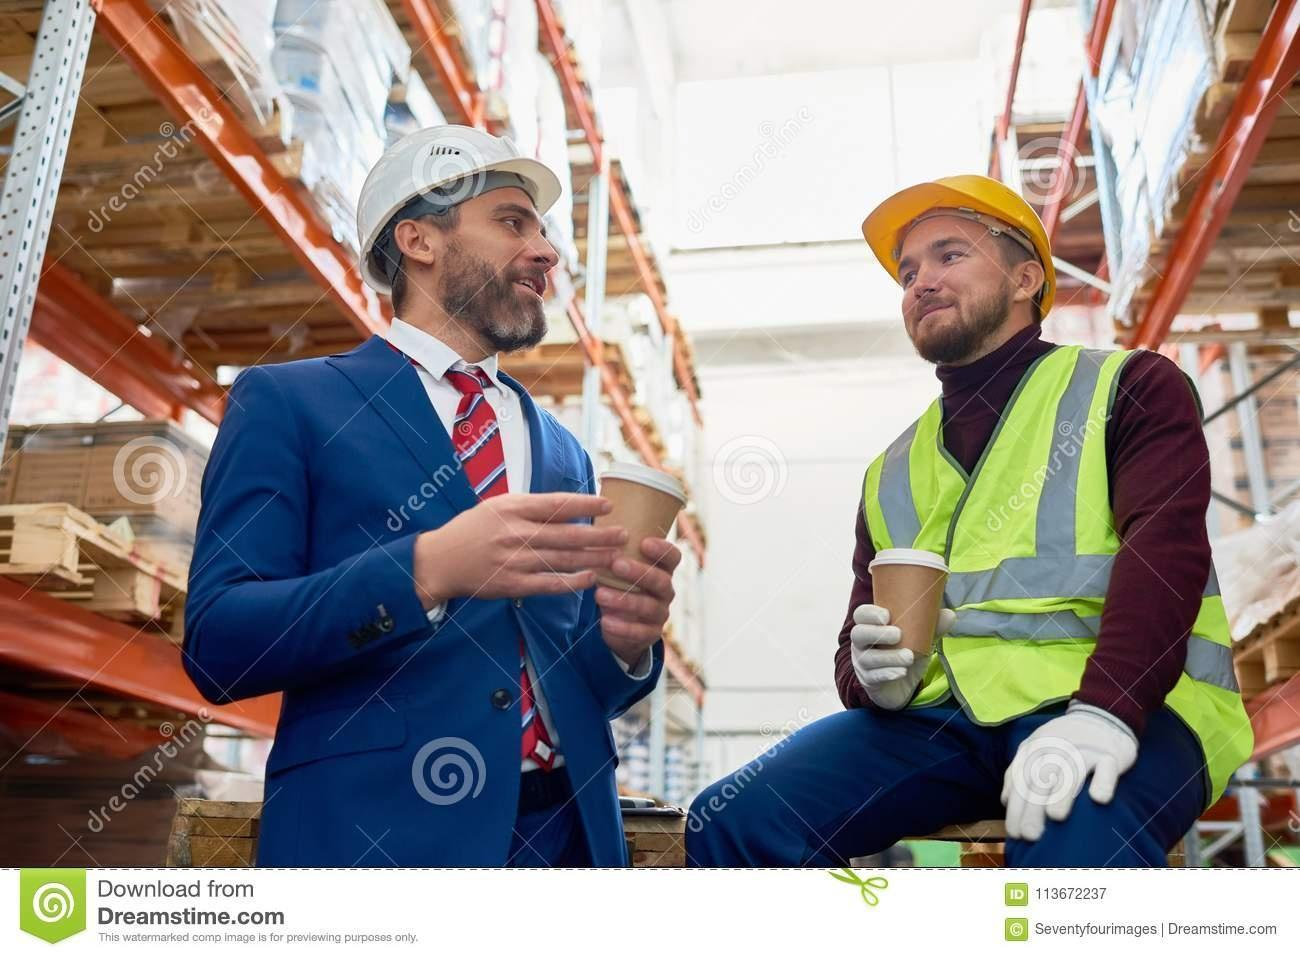helmet: (358, 114, 562, 298), (854, 170, 1061, 319)
no-vest: (221, 336, 603, 828)
person: (206, 125, 633, 878), (834, 159, 1265, 871)
vest: (853, 320, 1131, 749)
